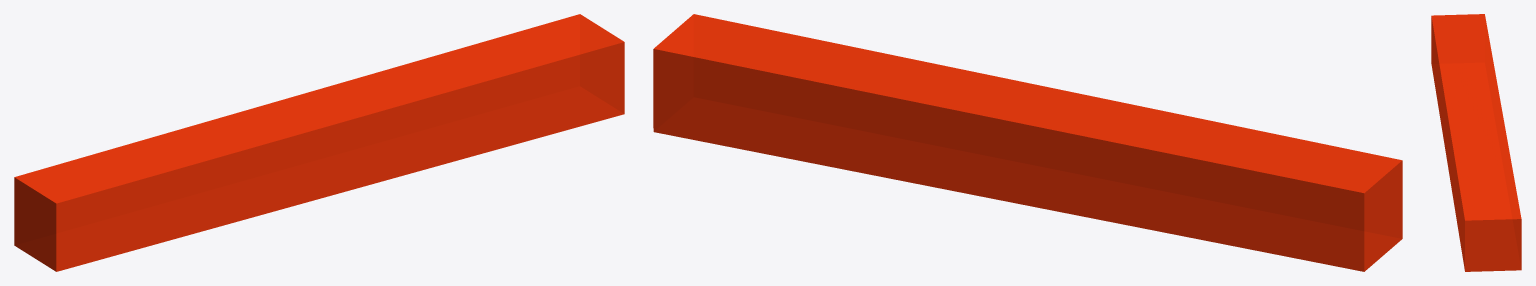
The model's file is Event_421127236_EErechit_41.fbx.
The picture shows the model from 3 angles, left to right: view 1: azimuth 30°, elevation 25°; view 2: azimuth 150°, elevation 25°; view 3: azimuth 270°, elevation 25°; orthographic projection. The views are drawn at different scales.
Visible parts, largest first — view 1: Model; view 2: Model; view 3: Model.
Boxes of the visible parts, x1=… form: Model: x1=14, y1=14, x2=624, y2=271; Model: x1=653, y1=14, x2=1402, y2=271; Model: x1=1431, y1=14, x2=1521, y2=271.
Bounding box in the file's own units: 0.6625 × 0.0767 × 0.122.
